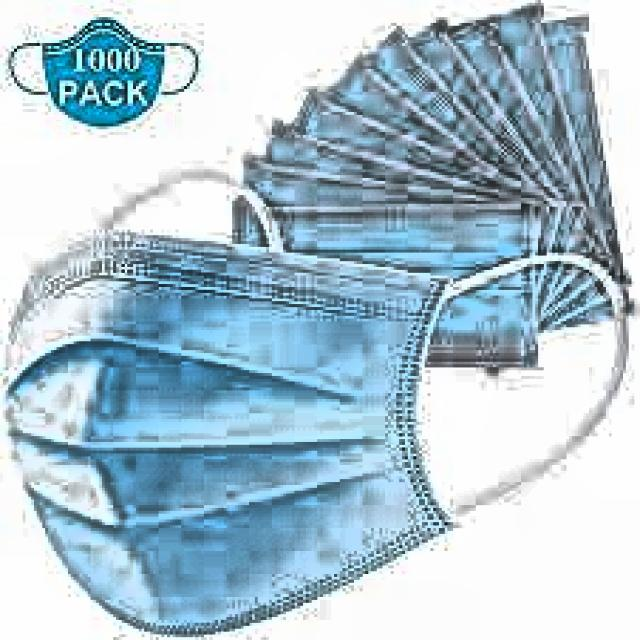trash: (6, 225, 458, 634), (217, 4, 628, 370)
